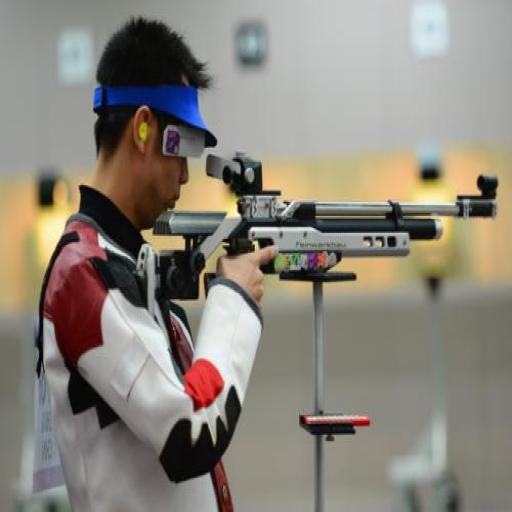shooting: (34, 14, 280, 510)
